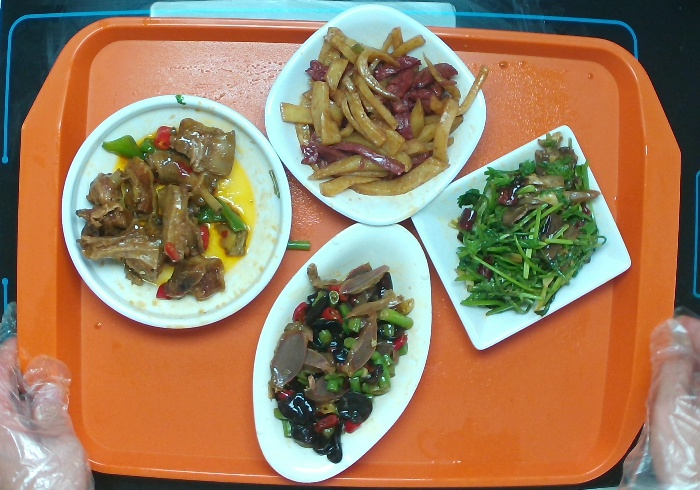HZYJPL-Si_Fang_Die: (409, 120, 635, 365)
HZYJPL-Si_Fang_Yuan_Die: (257, 6, 493, 230)
HZYJPL-Xiao_Yu_Die: (245, 217, 440, 490)
HZYJPL-Xiao_Yuan_Die: (53, 93, 300, 336)
